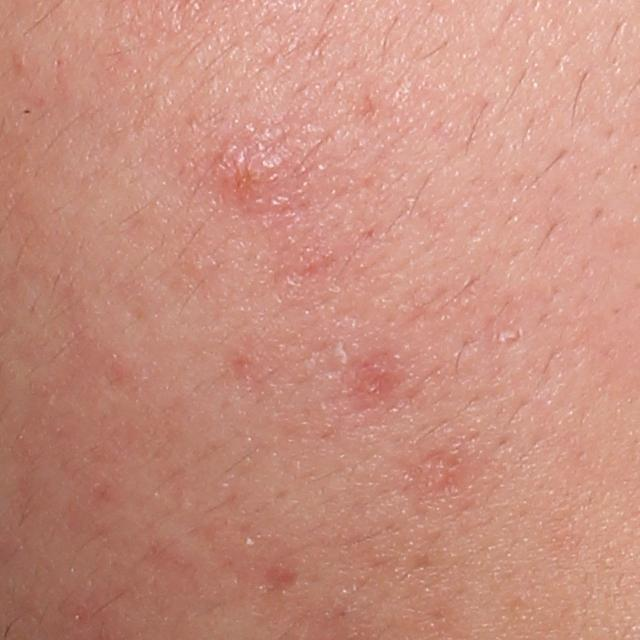atrophic_scar: (340, 347, 395, 420), (266, 568, 306, 593)
